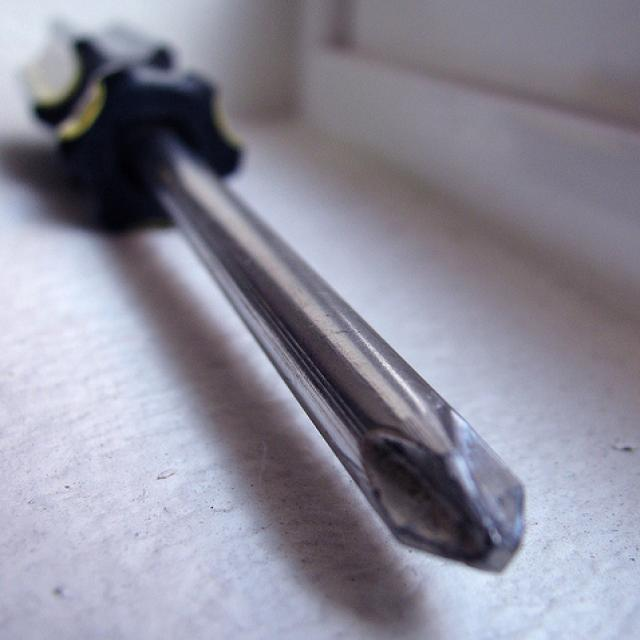screwdriver: (4, 7, 553, 604)
